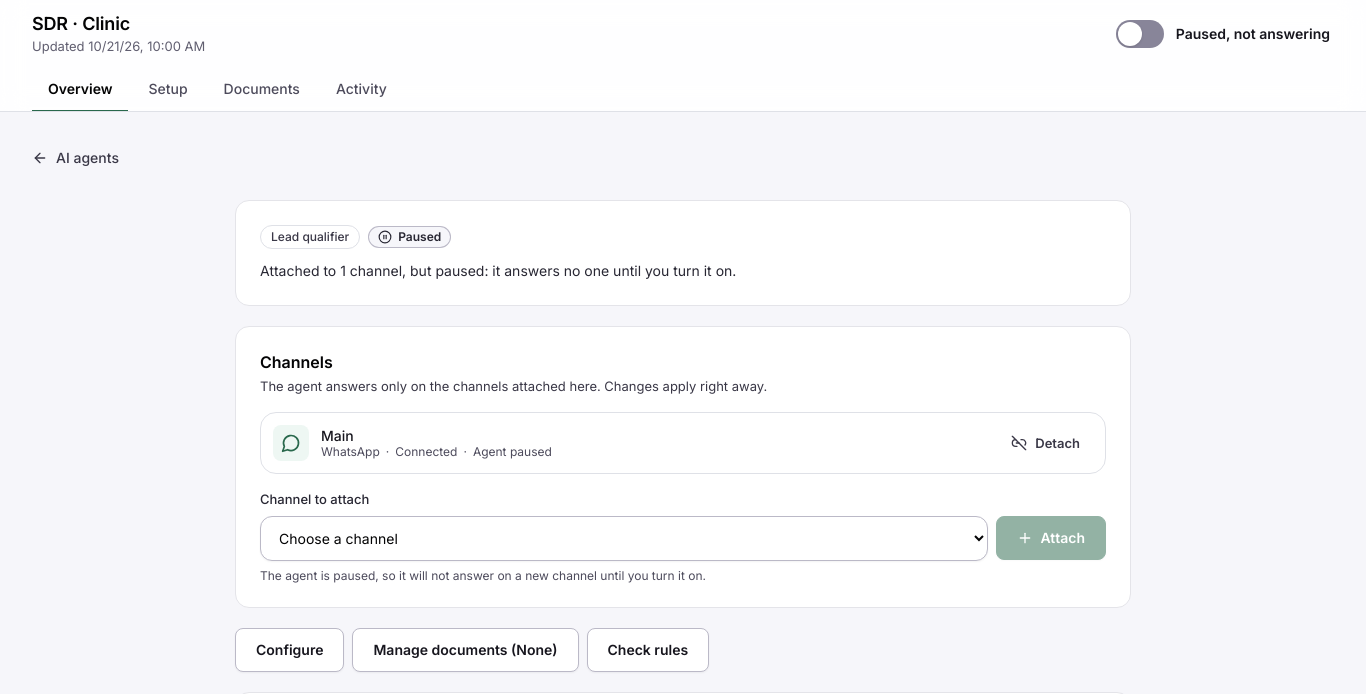
Test case: AgentDetail › confirms before turning on, then shows the confirmed state
The image size is (1366, 694).
Click the switch at (1223, 34), box [1112,12,1334,56]
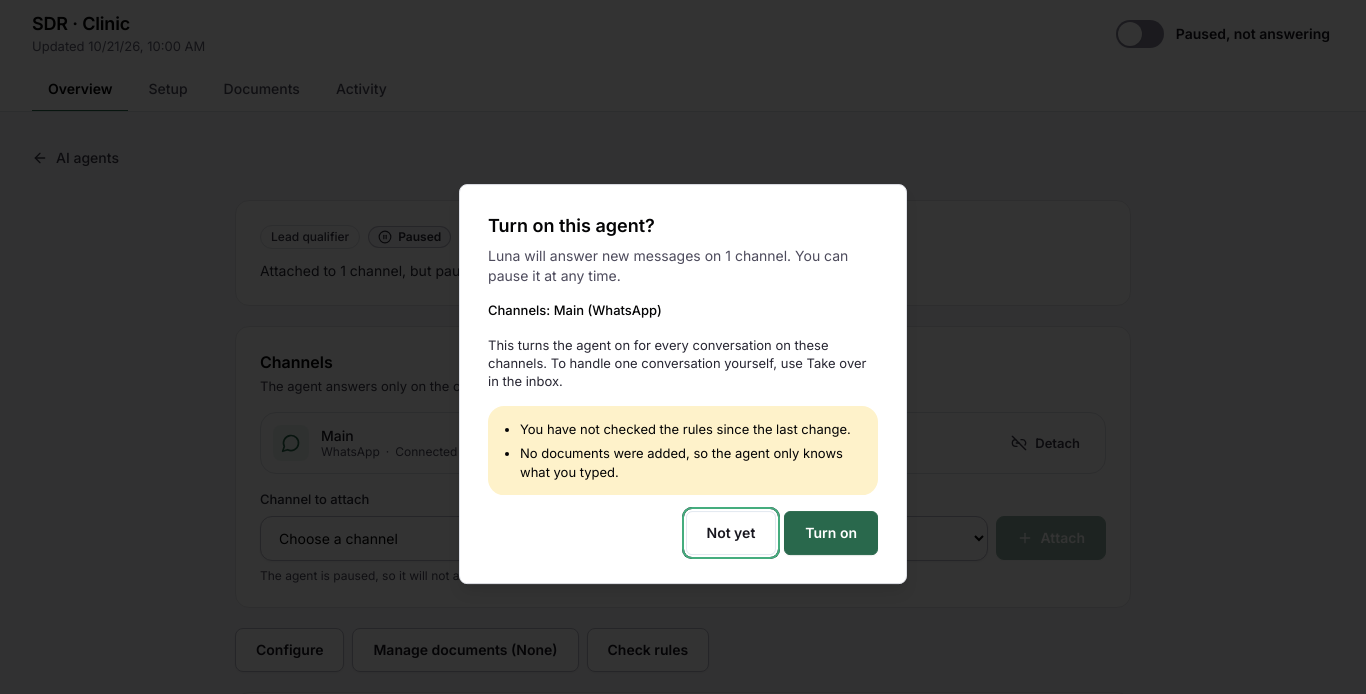
Expected: the heading "Turn on this agent?" is shown, [488,215,655,236]
Expected: the list item "No documents were added, so the agent only knows what you typed." is shown, [520,444,864,481]
Expected: the text "Channels: Main (WhatsApp)" is shown, [488,302,662,318]
Click the button "Turn on" at (831, 533), box [784,511,878,555]
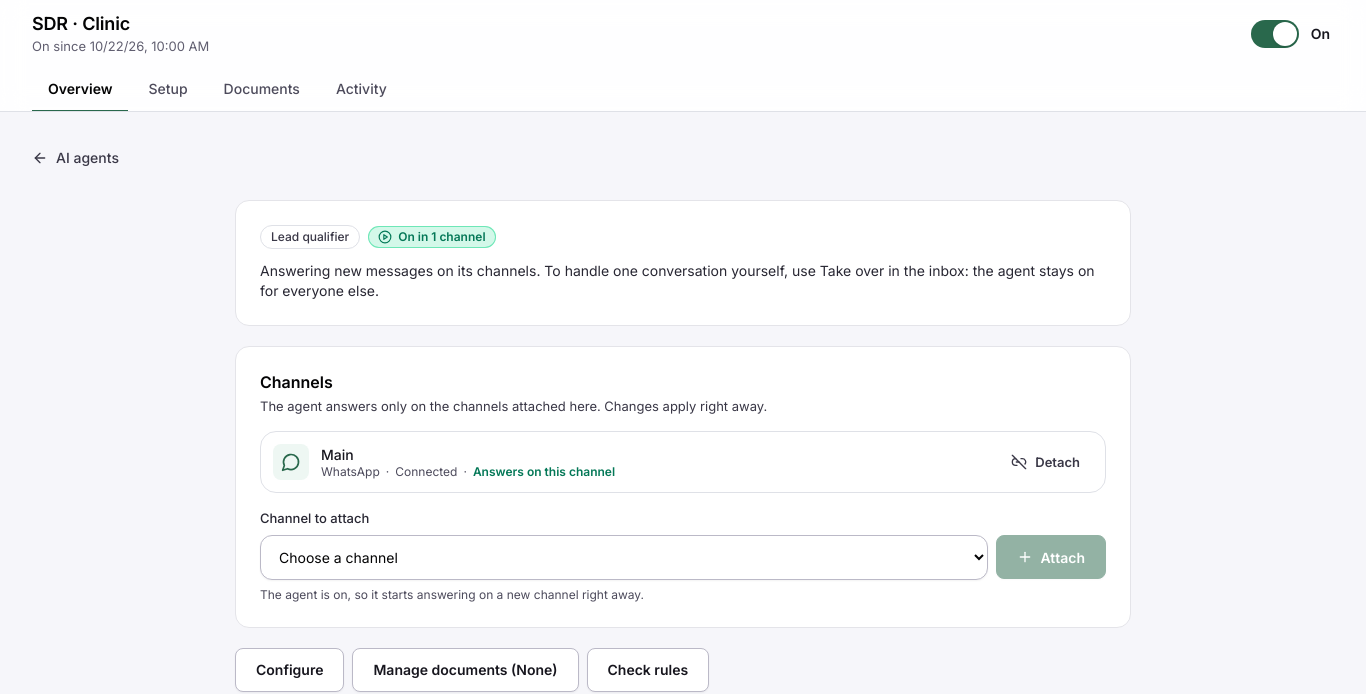
Expected: the text "Answers on this channel" is shown, [473,465,615,479]
